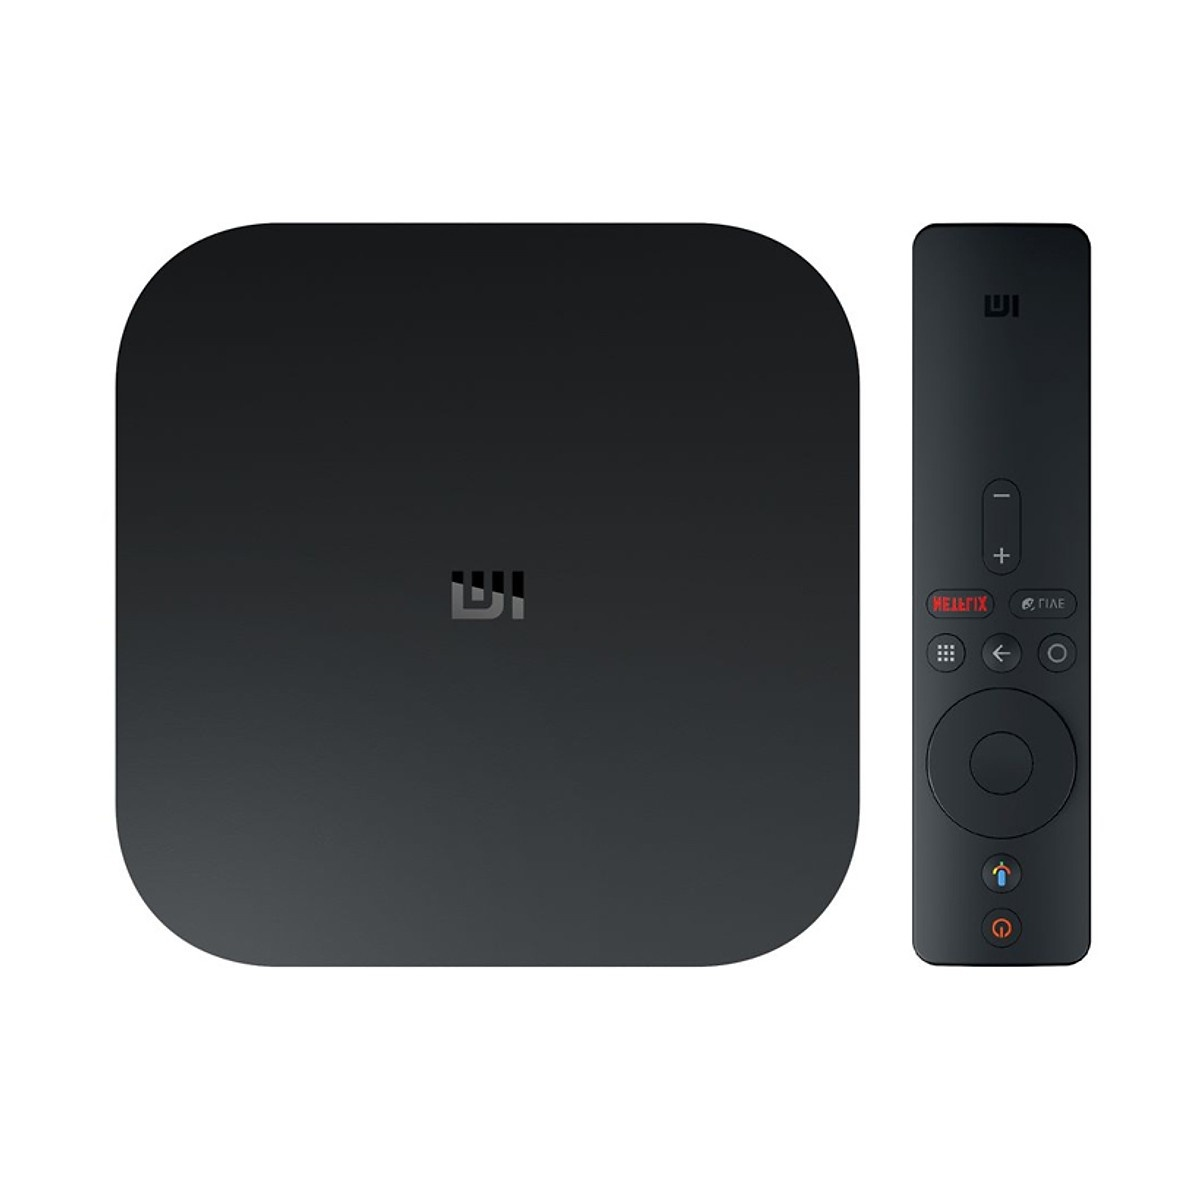Xiaomi: (366, 438, 714, 673)
